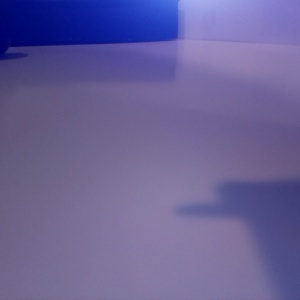alive_ball: (51, 101, 300, 300)
dead_ball: (107, 20, 181, 95)
